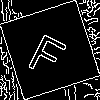F: (25, 25, 73, 79)
